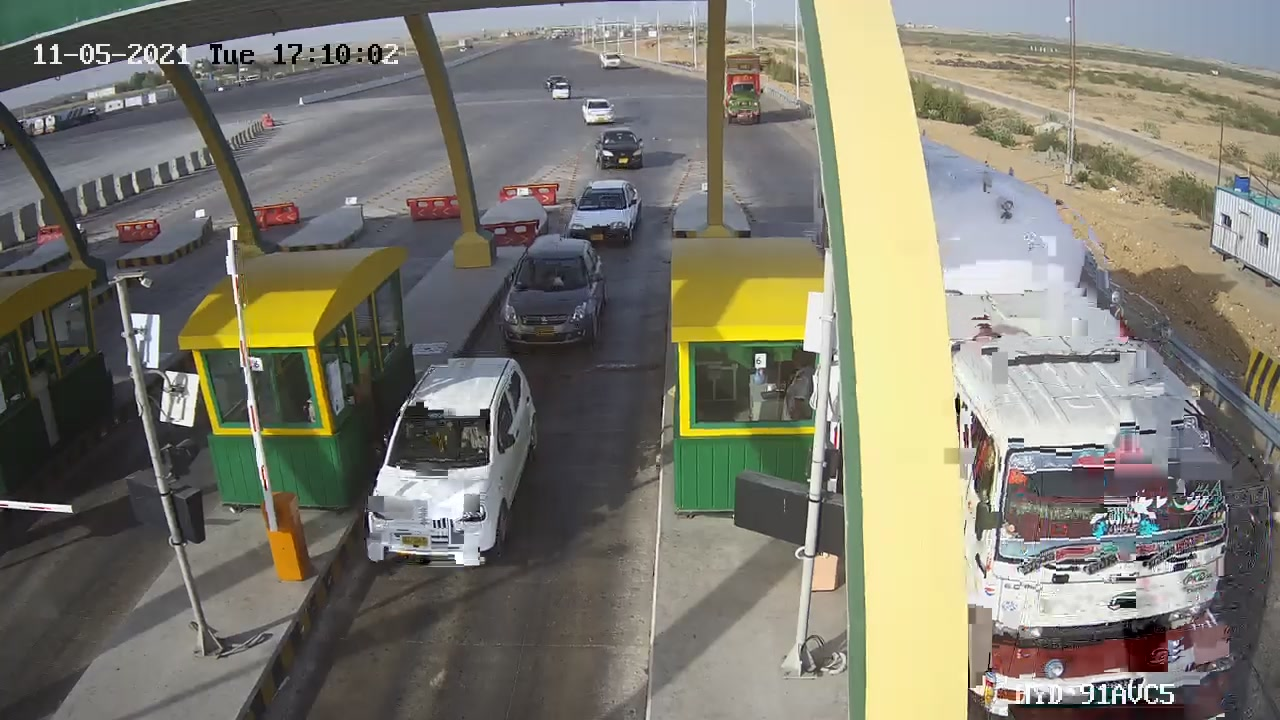F1: (482, 222, 624, 362)
